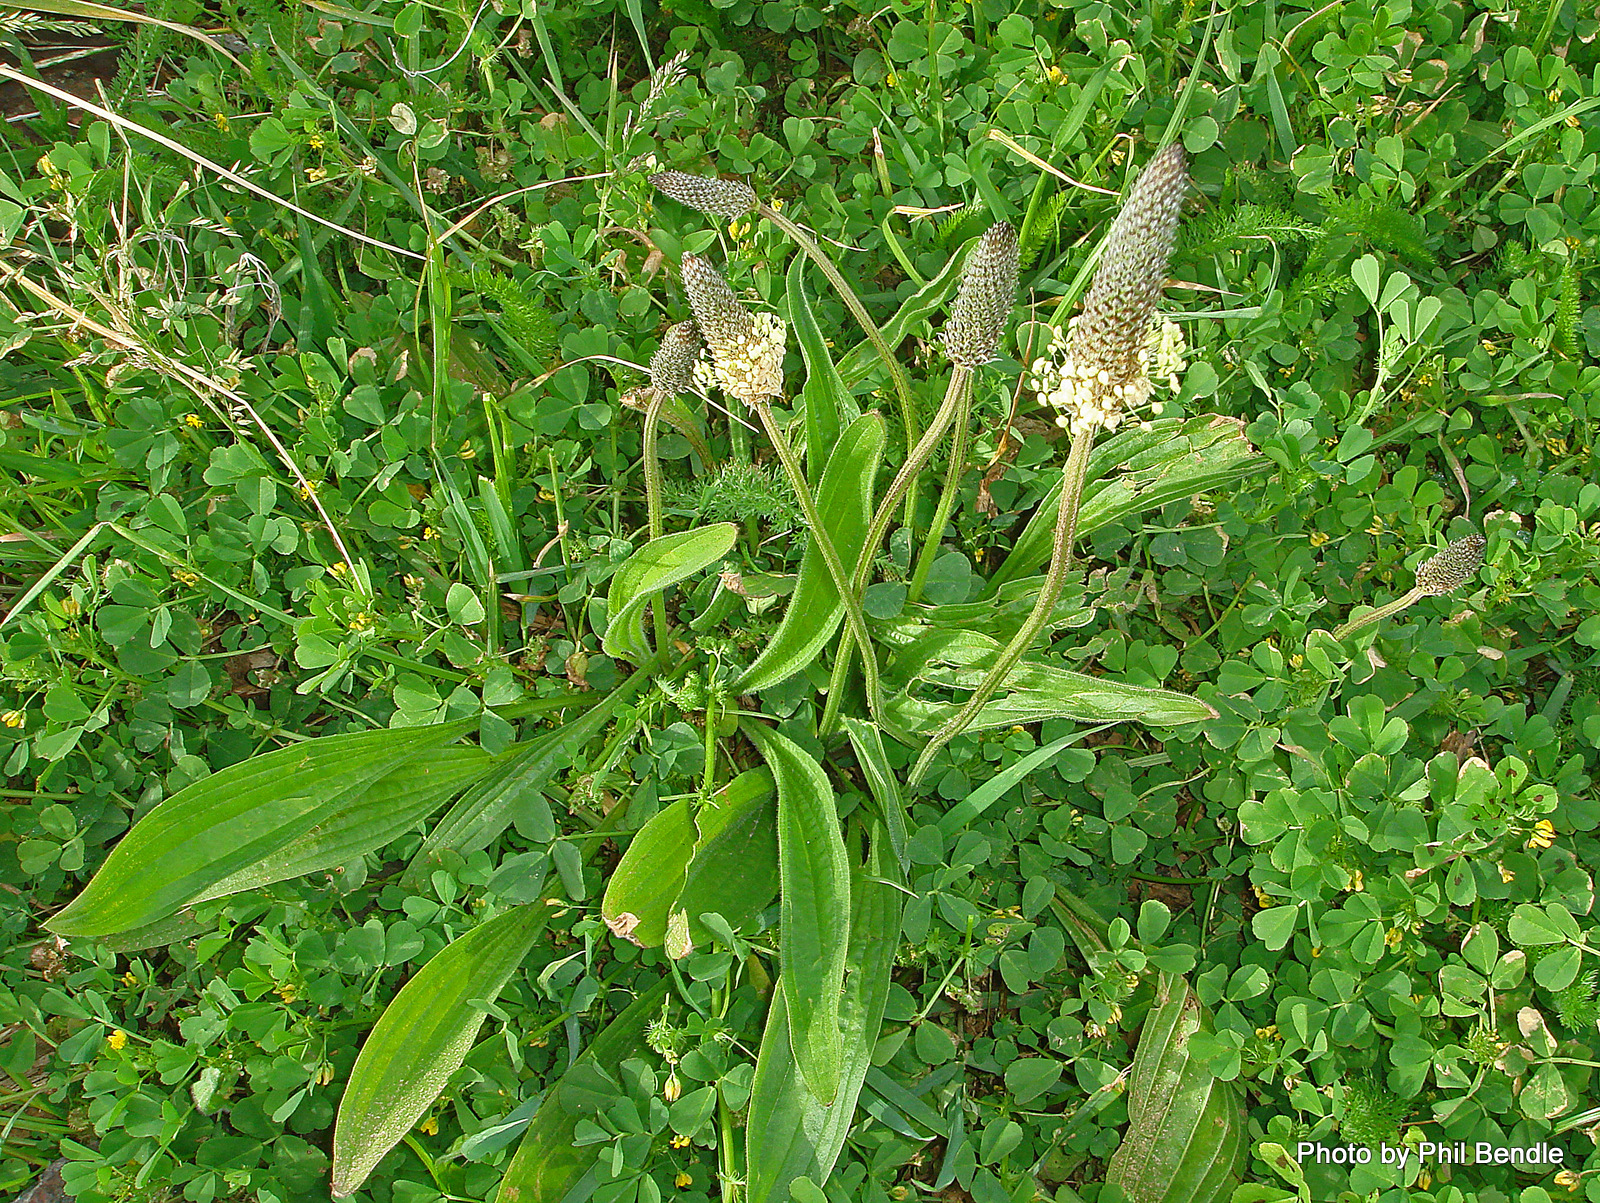buckhorn plantain: (241, 131, 1151, 1019)
